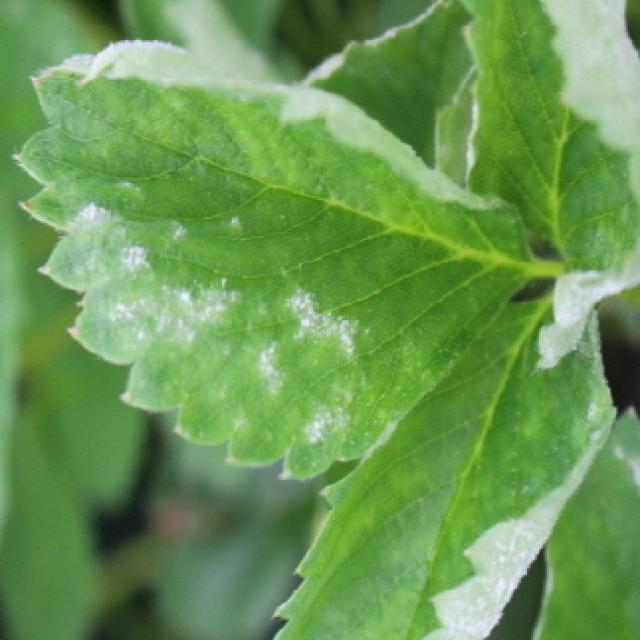Powdery Mildew Leaf: (8, 38, 543, 480), (270, 296, 617, 640), (456, 0, 640, 369), (295, 0, 479, 178), (531, 405, 640, 640)
